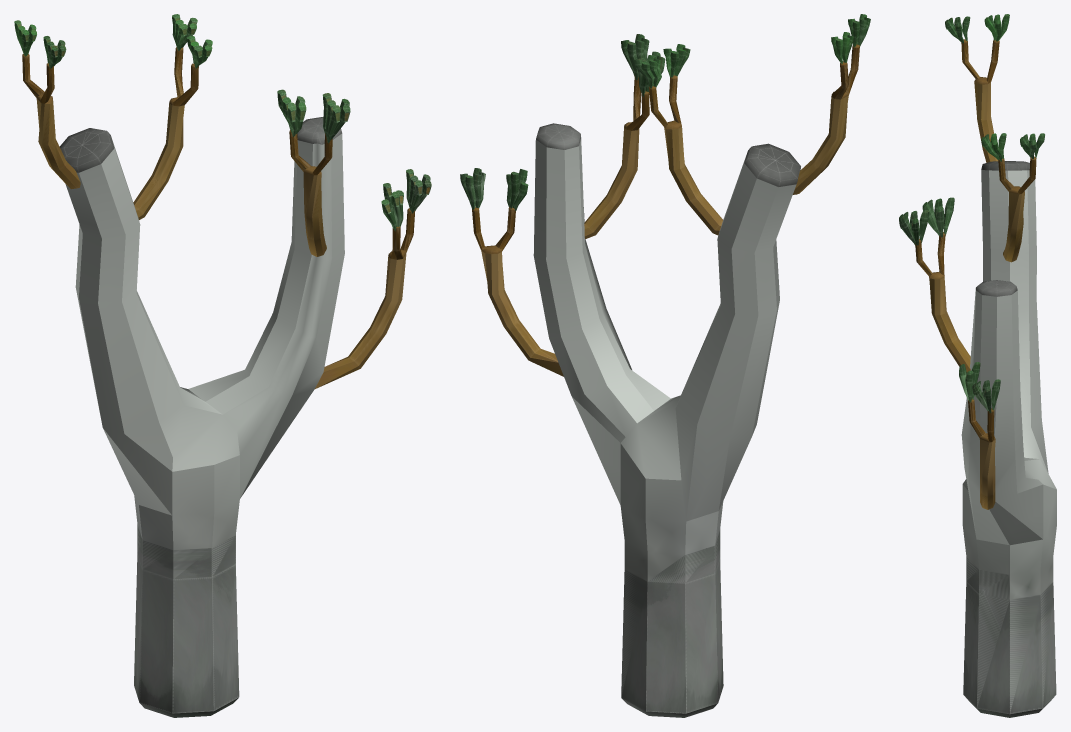
The model's file is kurassura_goramu.fbx.
3 views of the same model, side by side, from view 1: azimuth 30°, elevation 25°; view 2: azimuth 150°, elevation 25°; view 3: azimuth 270°, elevation 25° (orthographic). The views are drawn at different scales.
Parts seen in each view (by area): view 1: polySurface6, polySurface5, pCube23; view 2: polySurface6, polySurface5, pCube23; view 3: polySurface6, polySurface5, pCube23.
Part boxes in pixels (bbox=[...]): polySurface6: bbox=[59, 116, 344, 717]; polySurface5: bbox=[22, 47, 415, 388]; pCube23: bbox=[14, 14, 431, 231]; polySurface6: bbox=[533, 123, 800, 717]; polySurface5: bbox=[472, 44, 859, 376]; pCube23: bbox=[460, 14, 870, 210]; polySurface6: bbox=[961, 161, 1056, 717]; polySurface5: bbox=[915, 39, 1036, 509]; pCube23: bbox=[899, 14, 1044, 413].
Size of the model in its own units: 8.5 by 14.47 by 3.35.
